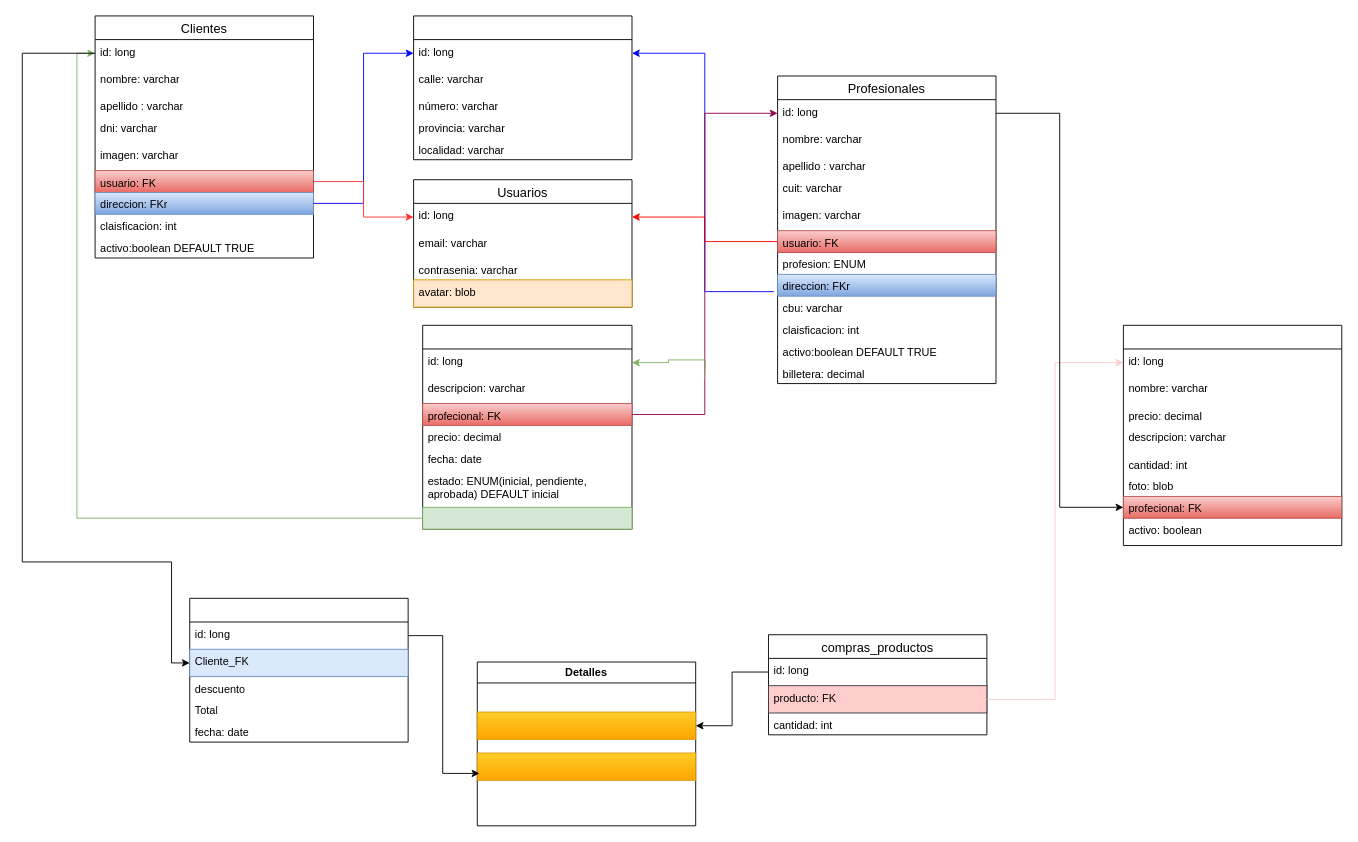
Some shapes in this 1358 by 842 pixel diagram are drawn without their labels. Each missing label, with the box of its shape:
cliente_id: FK: (422, 506, 632, 529)
Compras: (189, 597, 408, 742)
Compras: FK: (476, 752, 696, 780)
compras_productos: FK: (476, 711, 696, 739)
Direccion: (413, 15, 632, 160)
ordenes: (422, 324, 632, 529)
productos: (1122, 324, 1342, 546)
